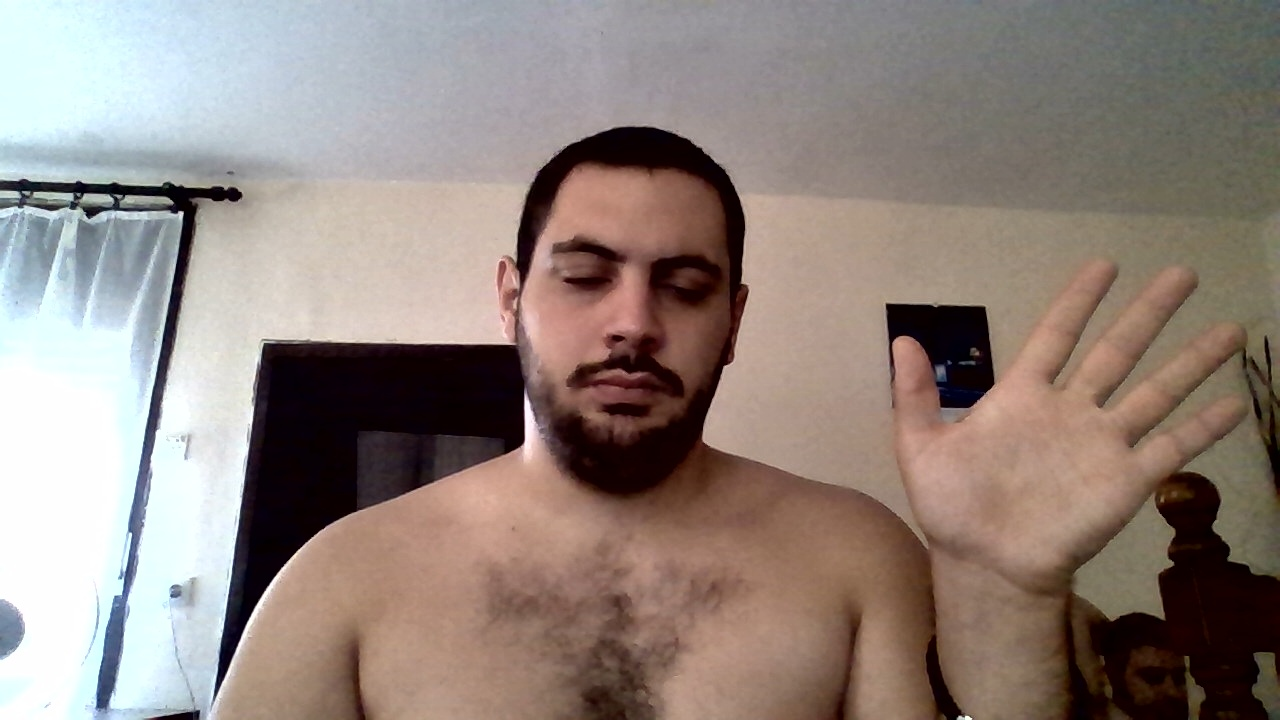palm: (890, 255, 1246, 566)
